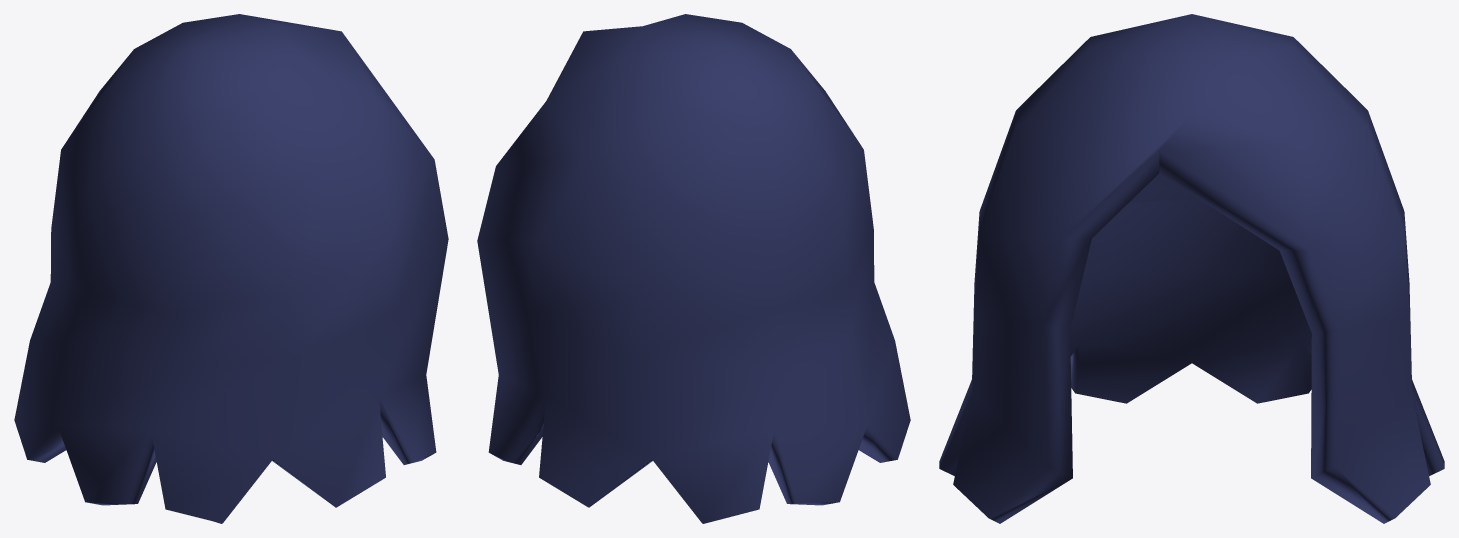
File: TherapyAttachmentHead03.fbx
3 views of the same model, side by side, from view 1: azimuth 30°, elevation 25°; view 2: azimuth 150°, elevation 25°; view 3: azimuth 270°, elevation 25° (orthographic). The views are drawn at different scales.
Parts seen in each view (by area): view 1: pSphere1; view 2: pSphere1; view 3: pSphere1.
Part boxes in pixels (x1,y1,x2,y2): pSphere1: (14,14,448,523); pSphere1: (477,14,910,523); pSphere1: (939,14,1444,523).
Bounding box in the file's own units: 160 × 190 × 190.
